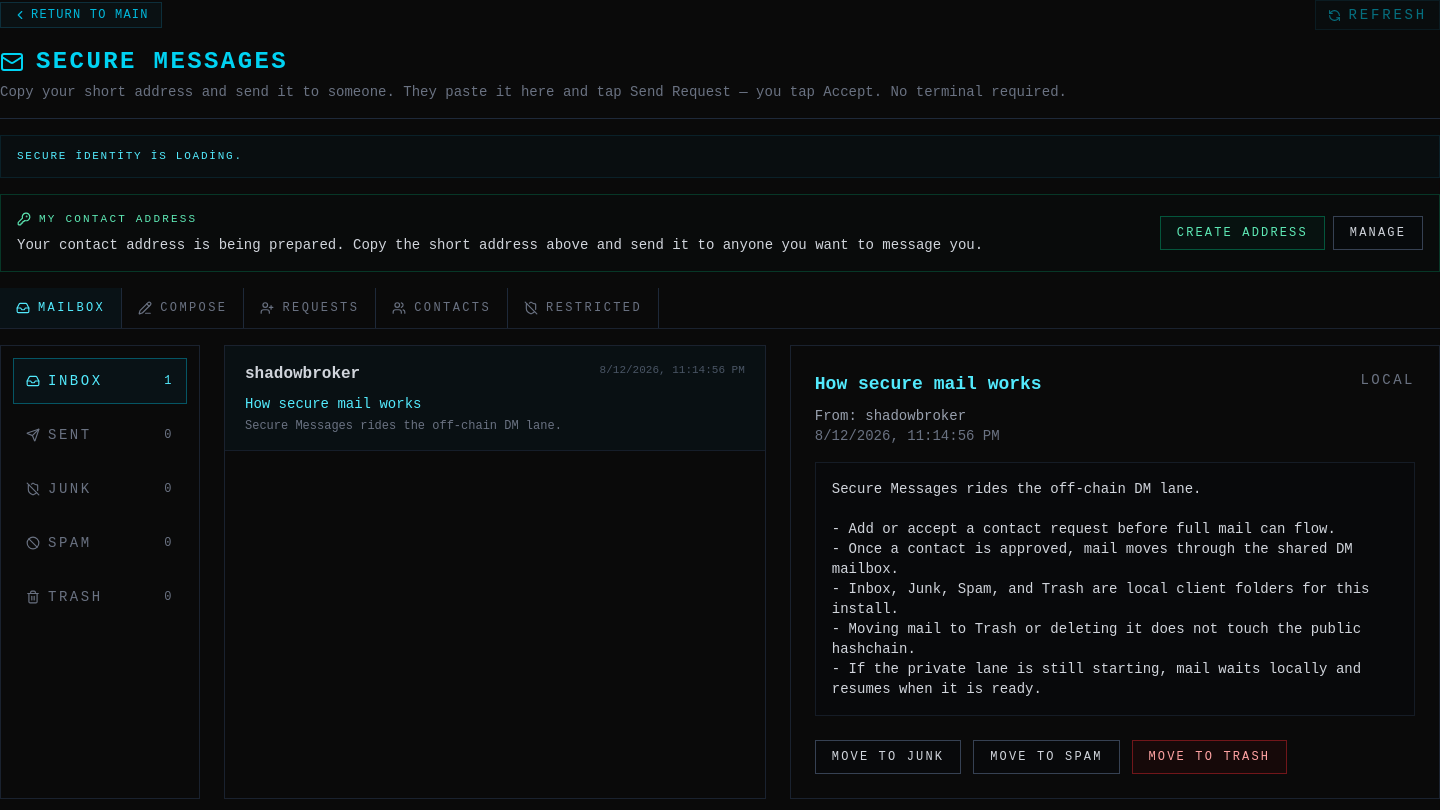
Test: MessagesView first-contact trust UX › sends sealed mail without waiting for the private delivery route
Click the button "COMPOSE" at (183, 308), box [122, 288, 244, 328]
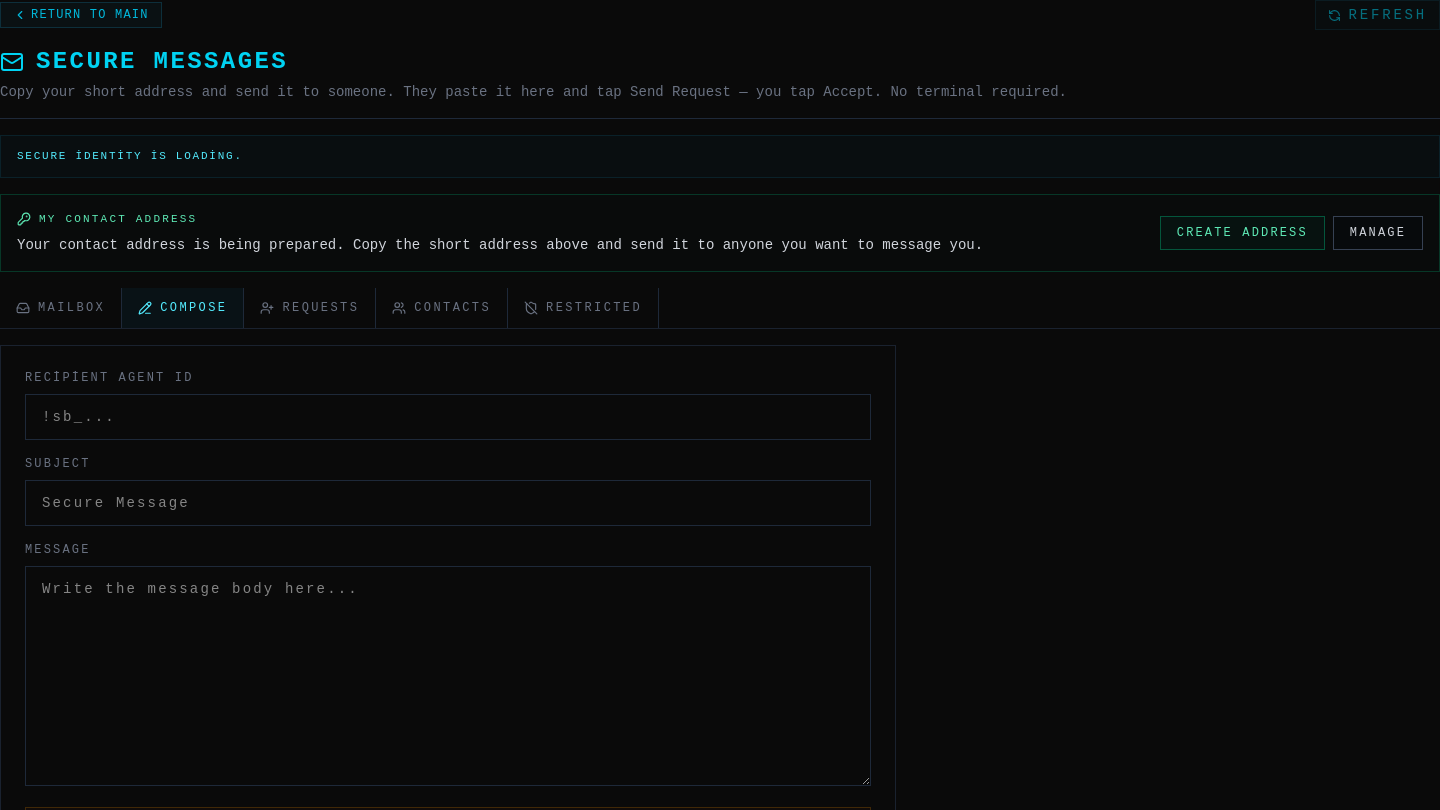
Type "!sb_pinned" into the field labelled "Recipient agent ID" at (448, 417), box [25, 394, 871, 440]
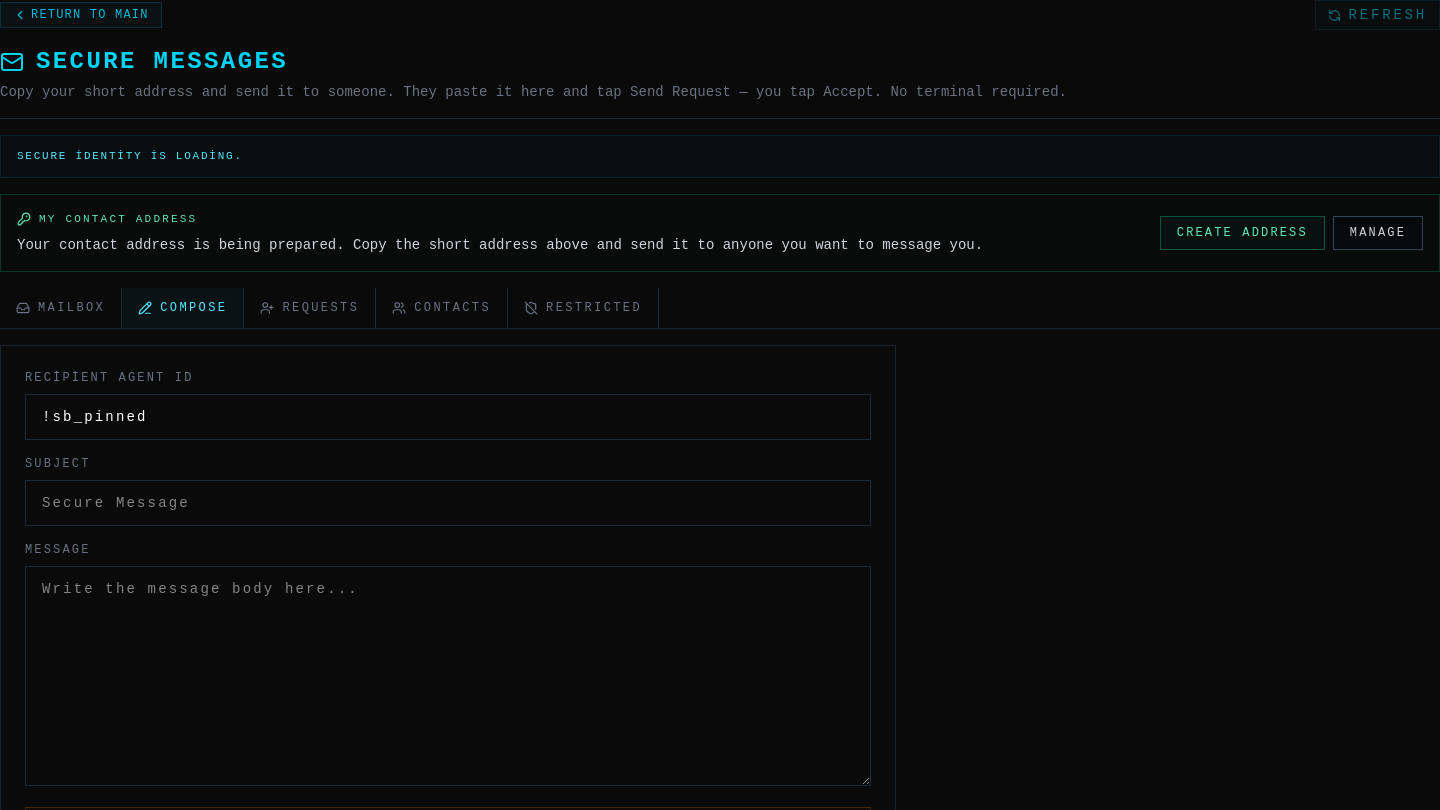
Type "hello after warmup" into the text box labelled "Message" at (448, 676), box [25, 566, 871, 786]
(page scrolled)
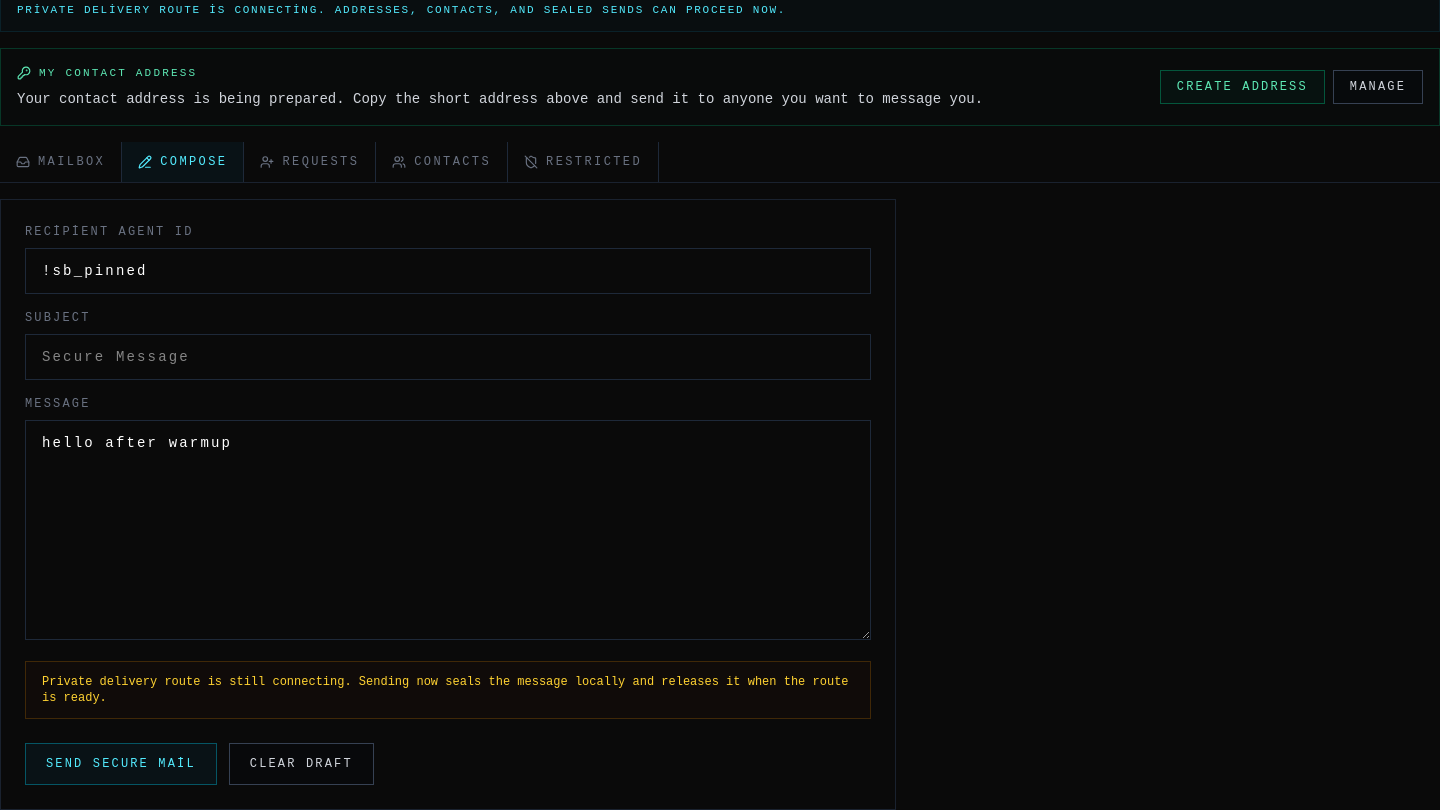
Result: the button "Send Secure Mail" is enabled
Click the button "Send Secure Mail" at (121, 764), box [25, 743, 217, 785]
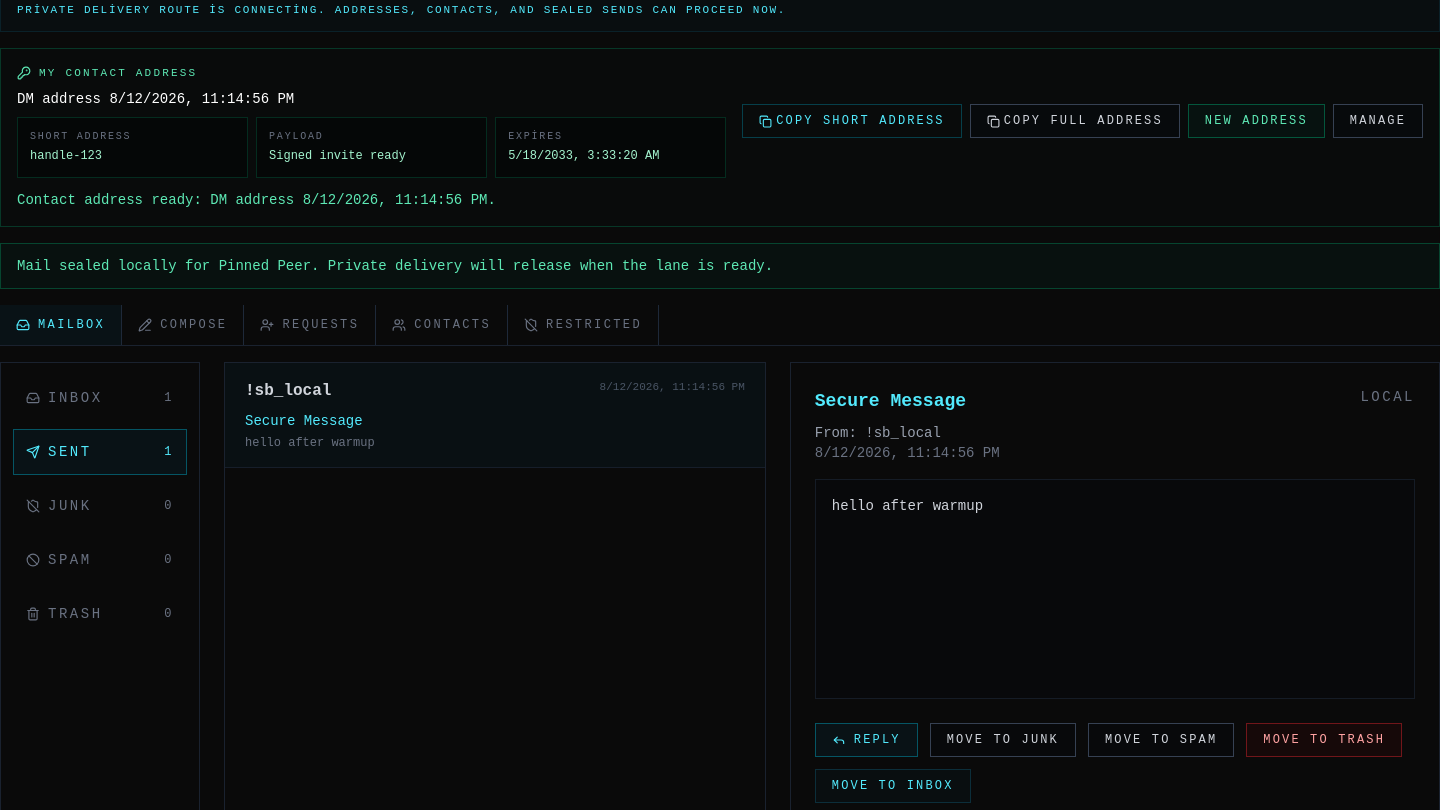
Result: the text "Mail sealed locally for Pinned Peer" is shown at [17, 258, 773, 274]
